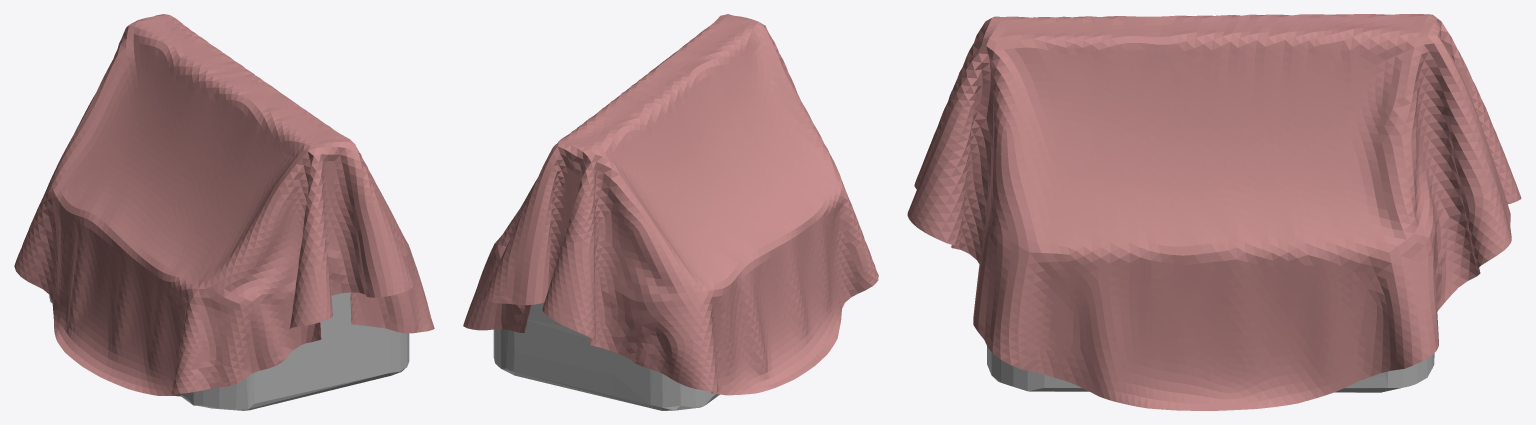
Rendered from level_2.glb.
The picture shows the model from 3 angles, left to right: view 1: azimuth 30°, elevation 25°; view 2: azimuth 150°, elevation 25°; view 3: azimuth 270°, elevation 25°; orthographic projection. The views are drawn at different scales.
Parts seen in each view (by area): view 1: world, object.obj; view 2: world, object.obj; view 3: world, object.obj.
Boxes of the visible parts, x1,y1,x2,y2 form: world: [14, 14, 434, 396]; object.obj: [49, 292, 409, 410]; world: [463, 14, 878, 395]; object.obj: [493, 302, 719, 410]; world: [907, 14, 1521, 410]; object.obj: [987, 346, 1434, 392].
Bounding box in the file's own units: 0.2941 × 0.2497 × 0.4454.
